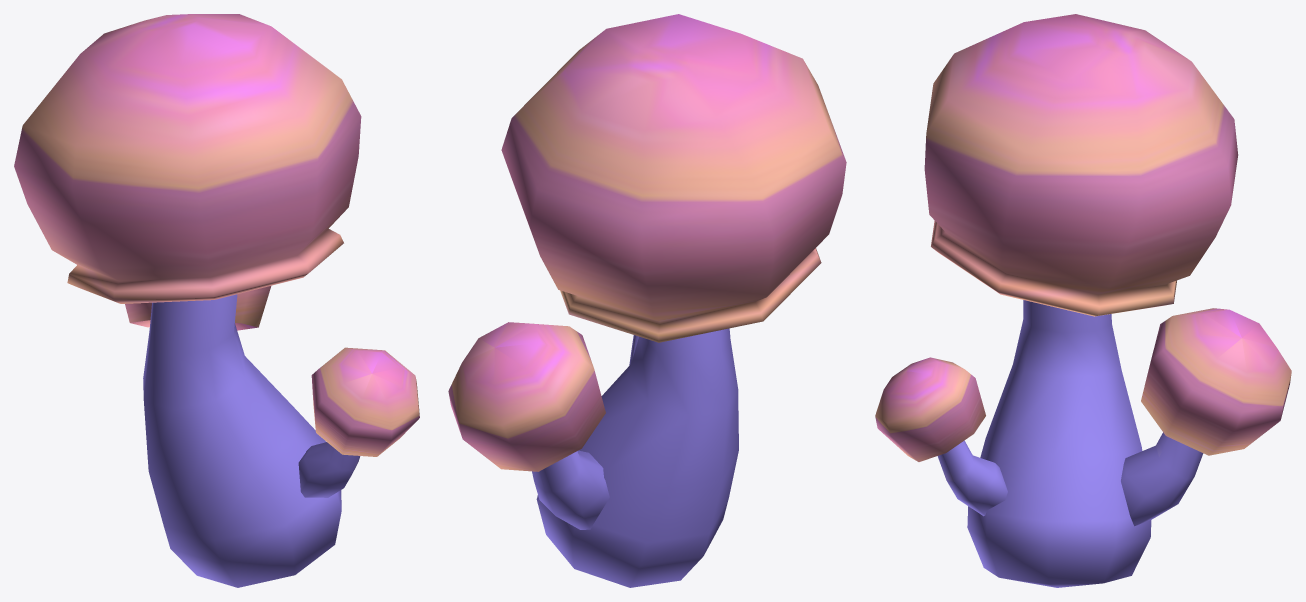
Rendered from media_seta07.fbx.
The picture shows the model from 3 angles, left to right: view 1: azimuth 30°, elevation 25°; view 2: azimuth 150°, elevation 25°; view 3: azimuth 270°, elevation 25°; orthographic projection. The views are drawn at different scales.
Visible parts, largest first — view 1: SetaM07; view 2: SetaM07; view 3: SetaM07.
Boxes of the visible parts, x1,y1,x2,y2 form: SetaM07: [14, 14, 419, 587]; SetaM07: [448, 14, 846, 587]; SetaM07: [875, 14, 1291, 587].
Bounding box in the file's own units: 2304 × 4085 × 2950.
1 material, 1 textured.
